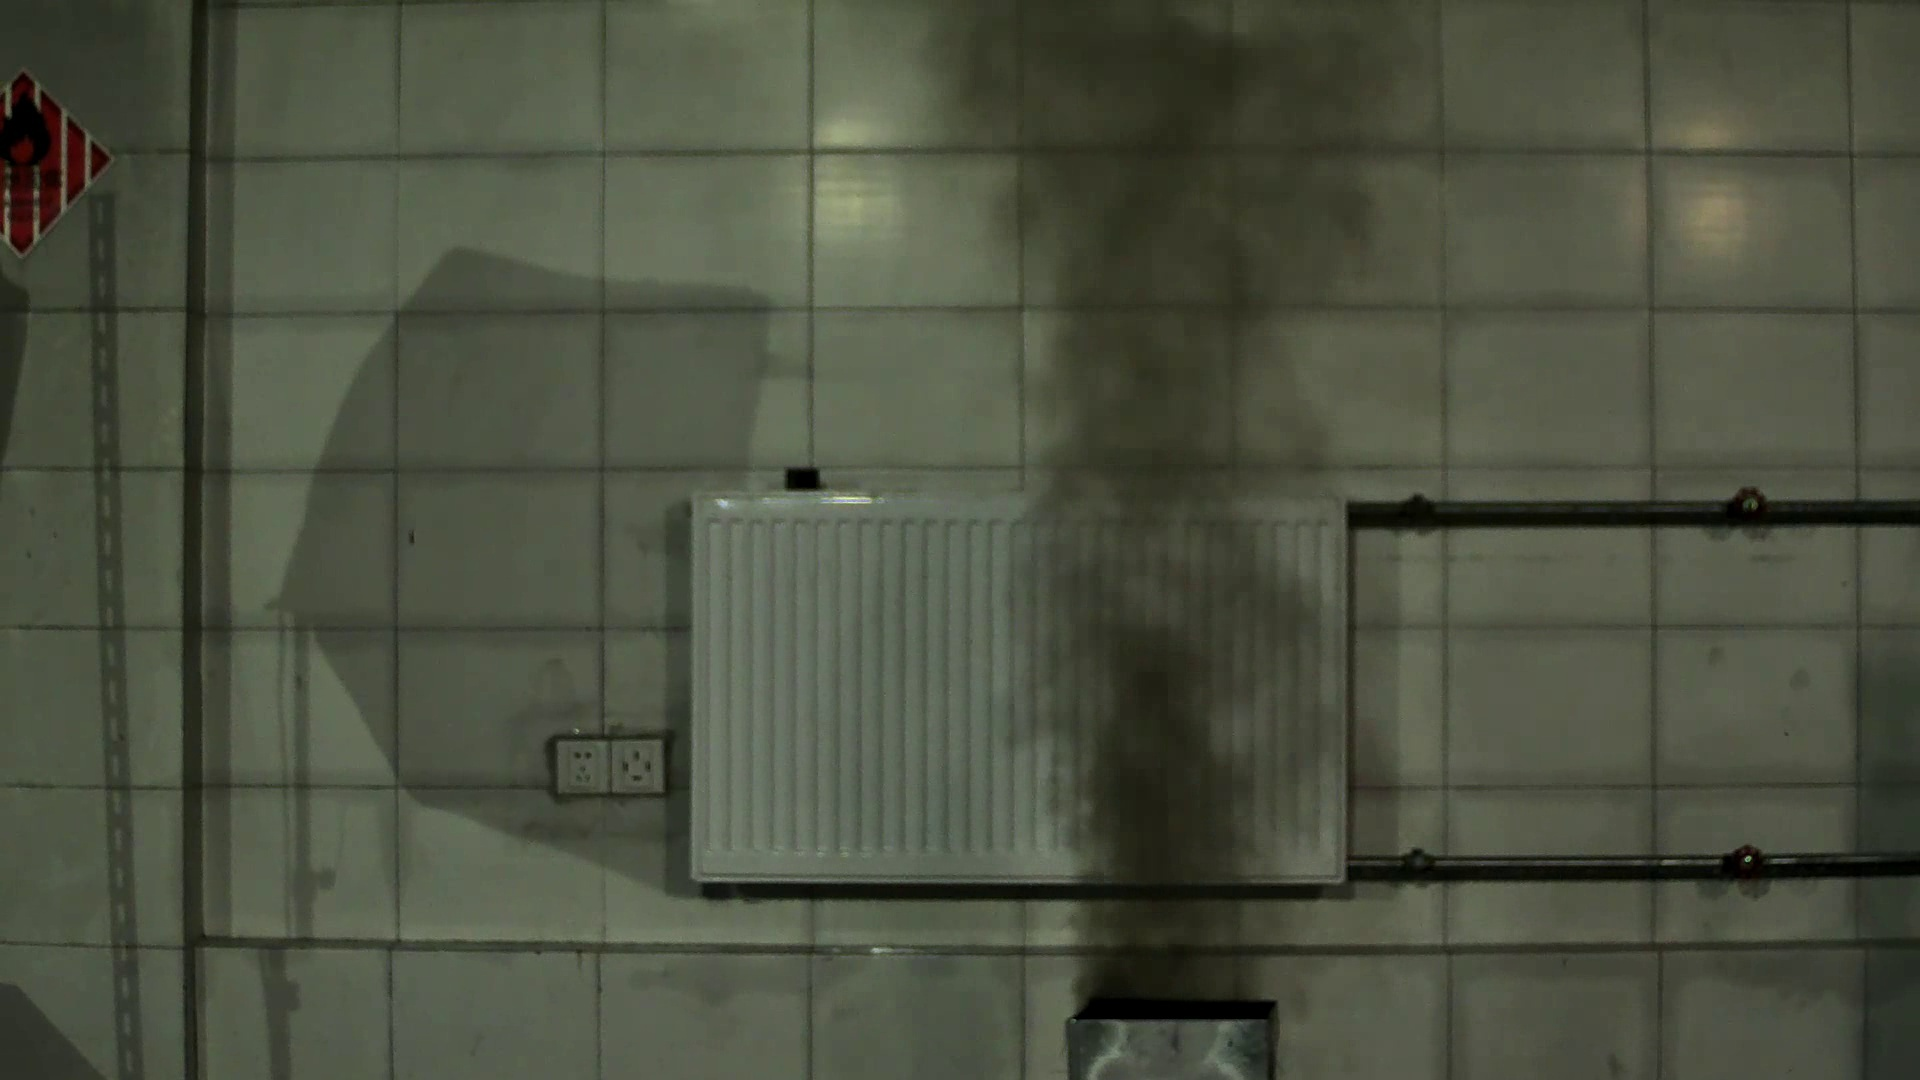smoke: (967, 99, 1429, 996)
